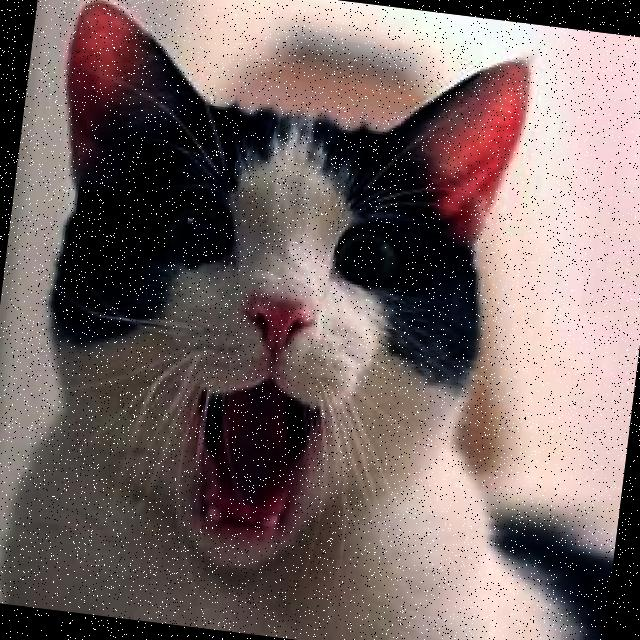Surprised: (74, 171, 437, 598)
